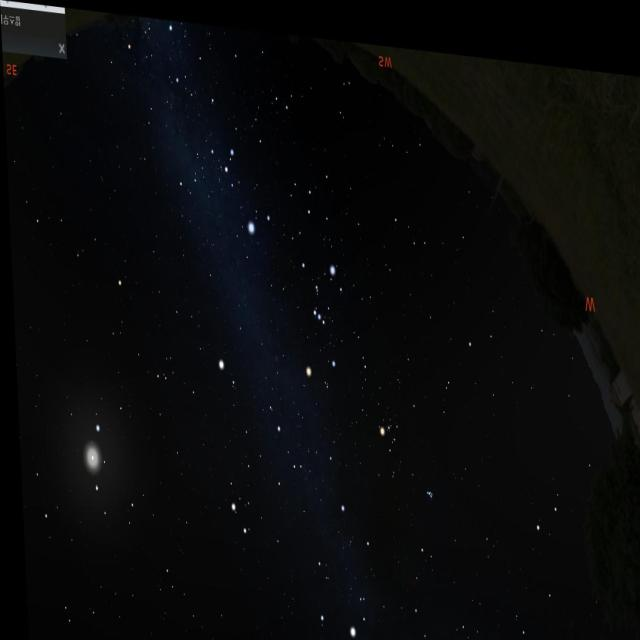canis_major: (213, 128, 275, 238)
canis_minor: (212, 345, 235, 394)
gemini: (219, 404, 303, 550)
leo: (15, 403, 140, 552)
moon: (72, 420, 108, 490)
orion: (290, 242, 345, 388)
pleiades: (417, 466, 436, 496)
taurus: (363, 377, 443, 515)
